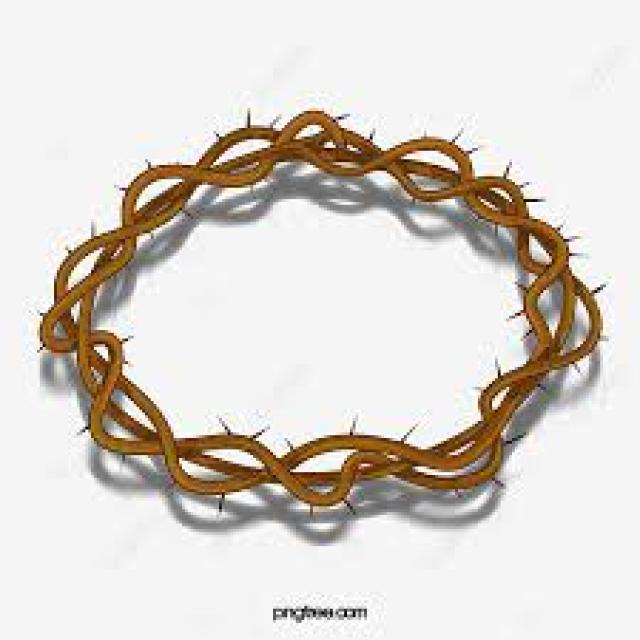crown: (26, 85, 615, 563)
